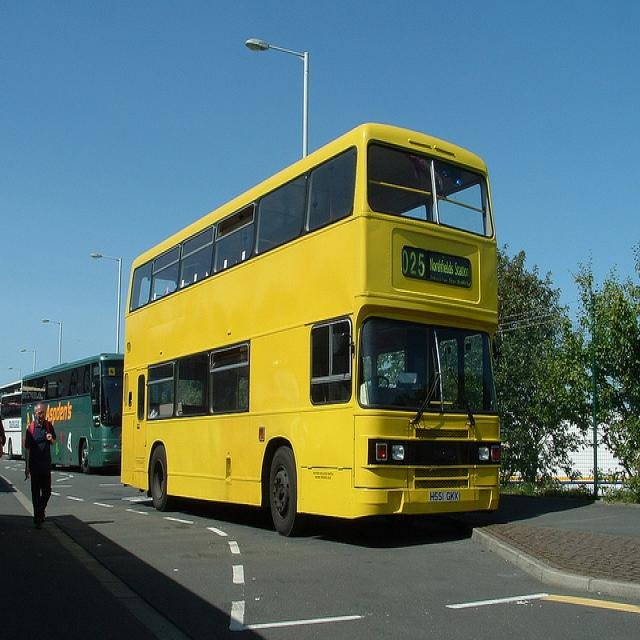Vehicle: (121, 122, 503, 536), (21, 355, 124, 472), (0, 380, 22, 460)
